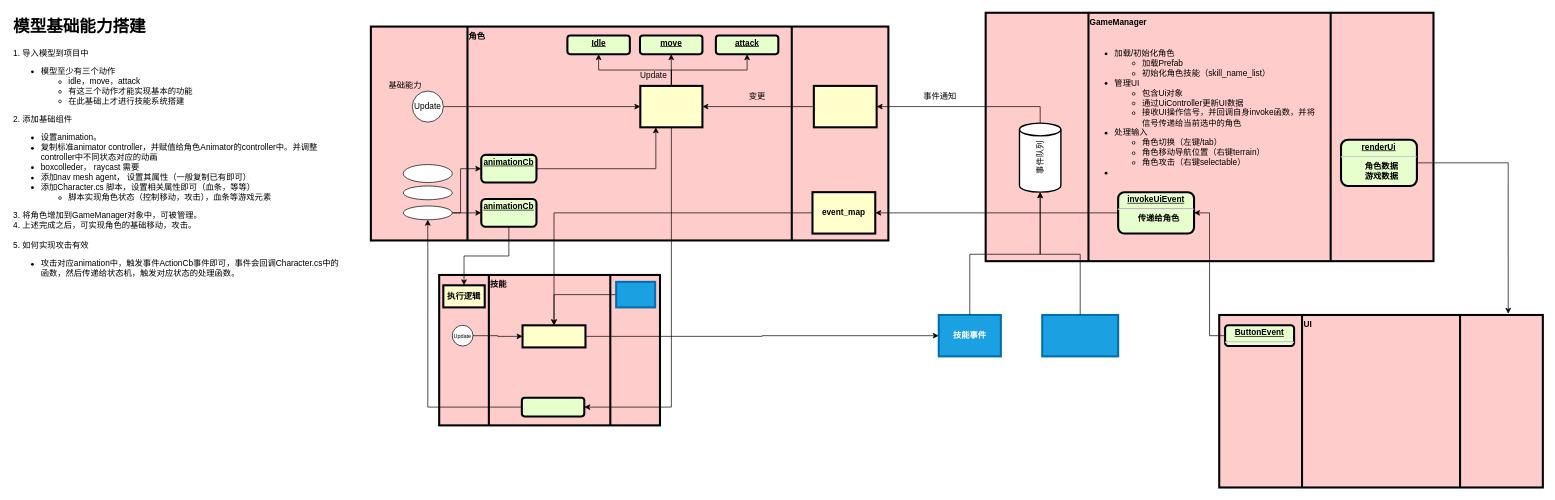
The diagram is 1555 pixels wide and 500 high, and some of its shapes have lost their labels. Each missing label, with the centre of its shape:
"skill_status" goes at point 552,406.
"事件处理" goes at point 844,106.
"动画" goes at point 427,212.
"处理逻辑" goes at point 553,336.
"状态机" goes at point 671,106.
"移动" goes at point 427,173.
"转身" goes at point 427,192.
"鼠标/键盘" goes at point 635,294.
"鼠标/键盘 移动攻击事件" goes at point 1080,335.
